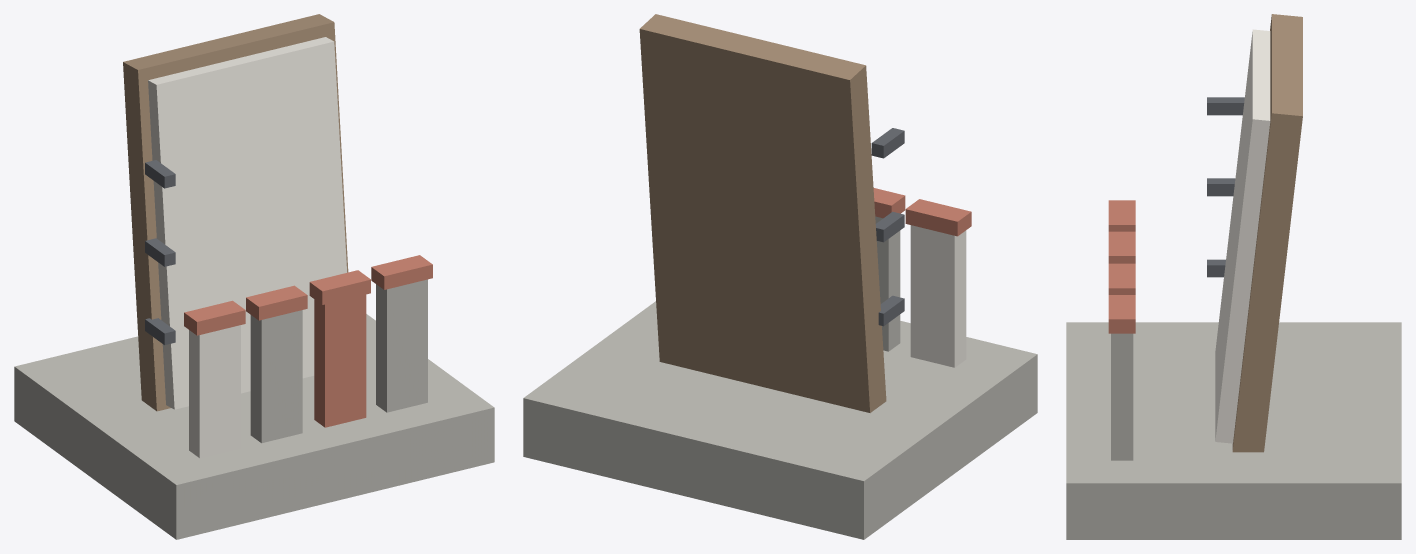
Rendered from LM15_Biography.glb.
The picture shows the model from 3 angles, left to right: view 1: azimuth 30°, elevation 25°; view 2: azimuth 150°, elevation 25°; view 3: azimuth 270°, elevation 25°; orthographic projection. The views are drawn at different scales.
Visible parts, largest first — view 1: BookPages, Base.001, BookBack, Tablet1, Tablet2, Tablet3, Tablet0, Cap0, Cap2, Cap1, Cap3, Stitch1 (+2 smaller); view 2: BookBack, Base.001, Tablet0, Tablet1, Cap0, Cap1, Stitch2, Stitch1; view 3: Base.001, BookBack, BookPages, Tablet3, Cap3, Cap1, Cap0, Cap2, Stitch2, Stitch1.
Part boxes in pixels (x1,y1,x2,y2): BookPages: (148, 37, 346, 409); Base.001: (14, 314, 494, 539); BookBack: (123, 14, 348, 411); Tablet1: (250, 310, 302, 443); Tablet2: (314, 294, 366, 427); Tablet3: (376, 279, 427, 412); Tablet0: (189, 325, 240, 458); Cap0: (184, 300, 245, 335); Cap2: (309, 270, 370, 304); Cap1: (246, 285, 307, 320); Cap3: (371, 255, 432, 289); Stitch1: (145, 238, 175, 266); BookBack: (639, 14, 886, 412); Base.001: (523, 301, 1037, 539); Tablet0: (910, 225, 966, 367); Tablet1: (875, 216, 900, 351); Cap0: (905, 199, 971, 236); Cap1: (873, 188, 905, 218); Stitch2: (871, 128, 904, 158); Stitch1: (875, 211, 904, 242); Base.001: (1066, 322, 1401, 539); BookBack: (1232, 14, 1302, 452); BookPages: (1215, 29, 1270, 443); Tablet3: (1111, 333, 1133, 460); Cap3: (1108, 295, 1135, 333); Cap1: (1108, 231, 1135, 263); Cap0: (1108, 200, 1135, 231); Cap2: (1108, 263, 1135, 294); Stitch2: (1207, 97, 1244, 115); Stitch1: (1207, 178, 1235, 196).
Bounding box in the file's own units: 1.7 × 1.95 × 1.5.
